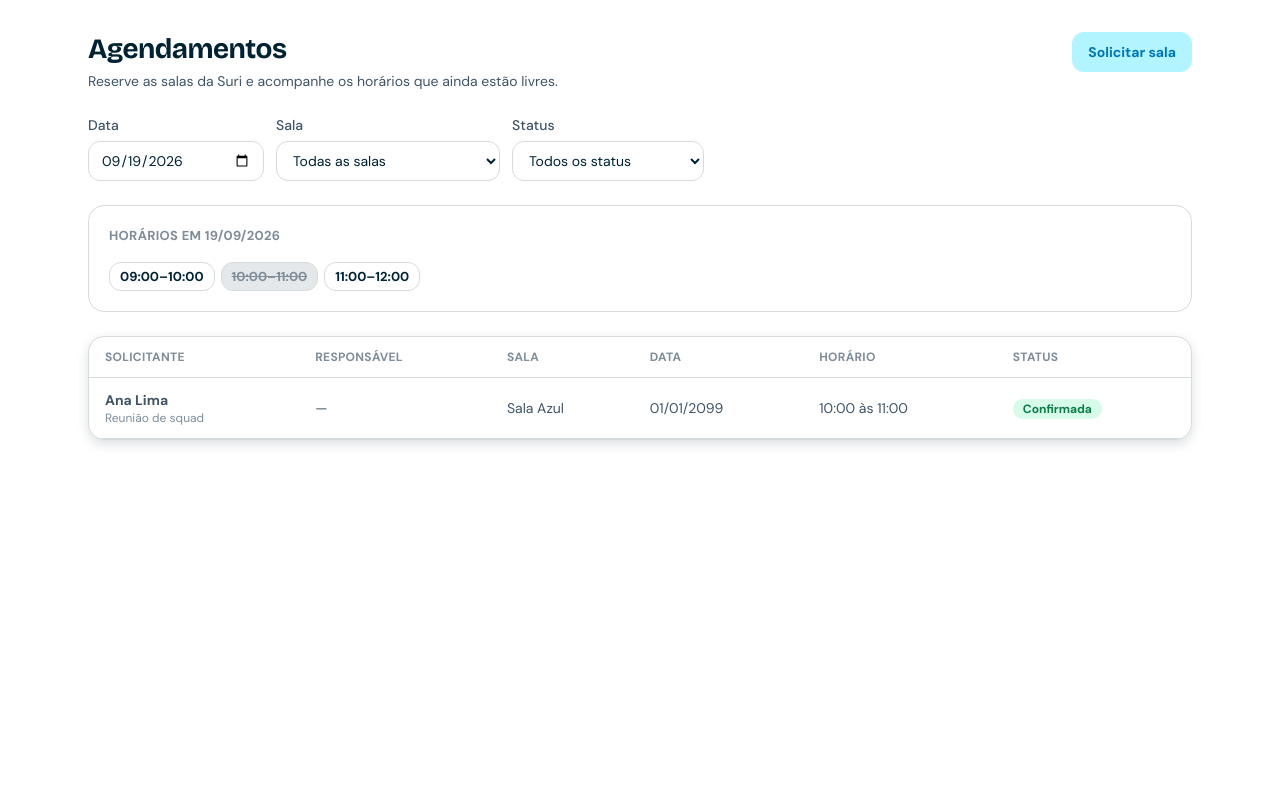
Scenario: AgendamentosPage › oferece solicitação ao colaborador somente quando a configuração está ligada
The width and height of the screenshot is (1280, 800).
Click the button "Solicitar sala".
click(1132, 52)  # box 1072,32 -> 1192,72
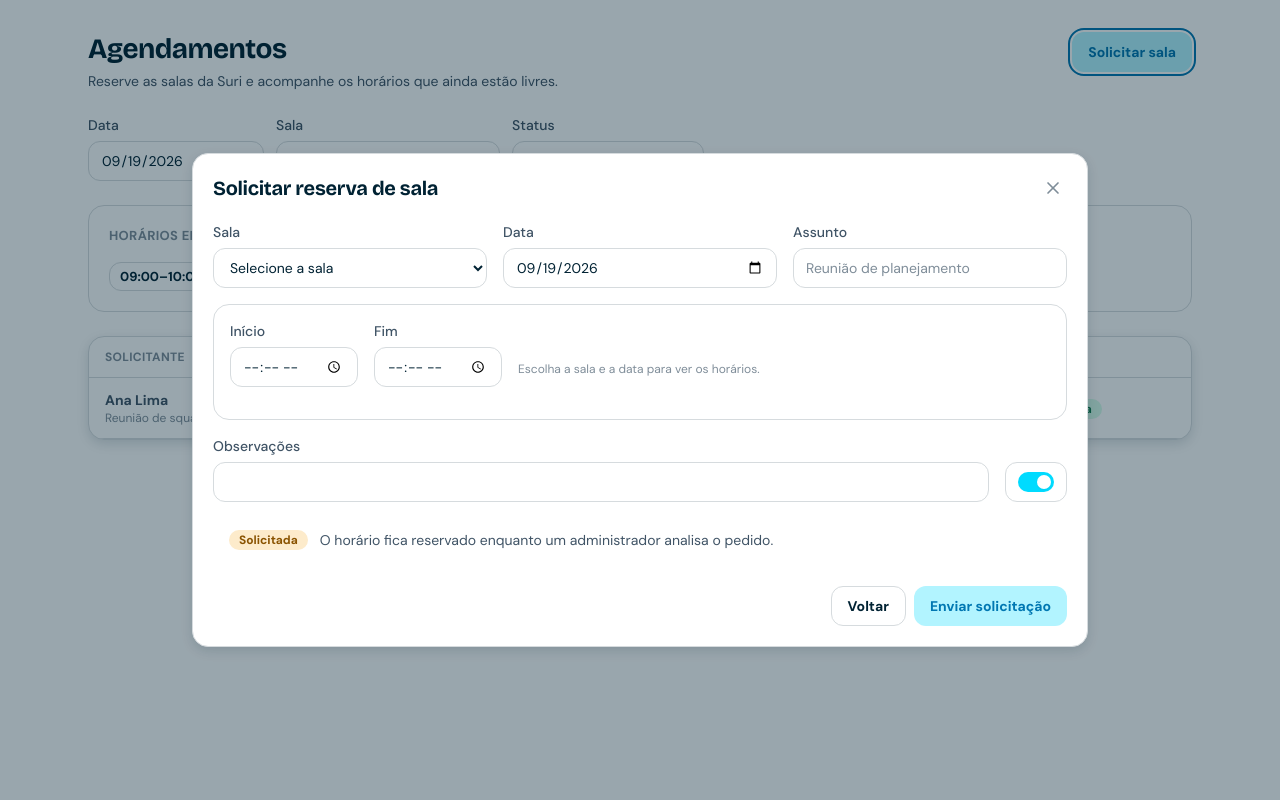
Expected: the dialog "Solicitar reserva de sala" is shown, 192,153 -> 1088,647
